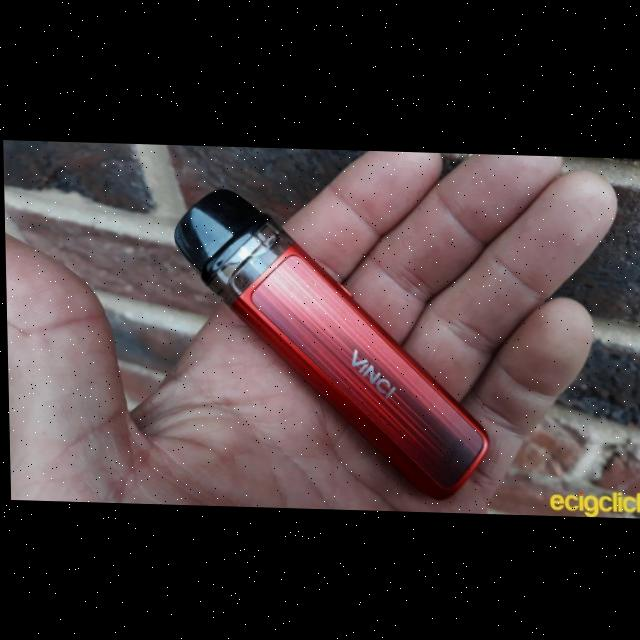vape: (172, 181, 490, 502)
